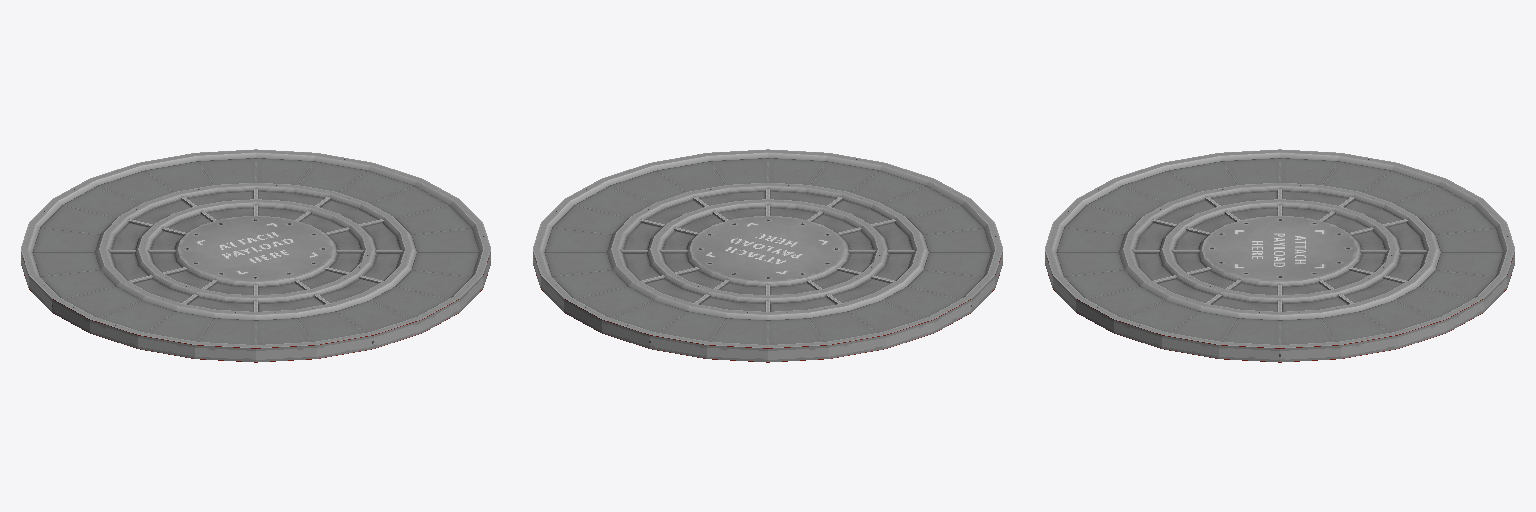
The picture shows the model from 3 angles: view 1: azimuth 30°, elevation 25°; view 2: azimuth 150°, elevation 25°; view 3: azimuth 270°, elevation 25°; orthographic projection.
Visible parts, largest first — view 1: LLV_B_Fairing_1; view 2: LLV_B_Fairing_1; view 3: LLV_B_Fairing_1.
Boxes of the visible parts, x1,y1,x2,y2 form: LLV_B_Fairing_1: [21, 149, 490, 362]; LLV_B_Fairing_1: [533, 149, 1002, 362]; LLV_B_Fairing_1: [1045, 149, 1514, 362].
Size of the model in its own units: 3.75 by 0.125 by 3.75.
Materials: 1 (1 with a texture image).